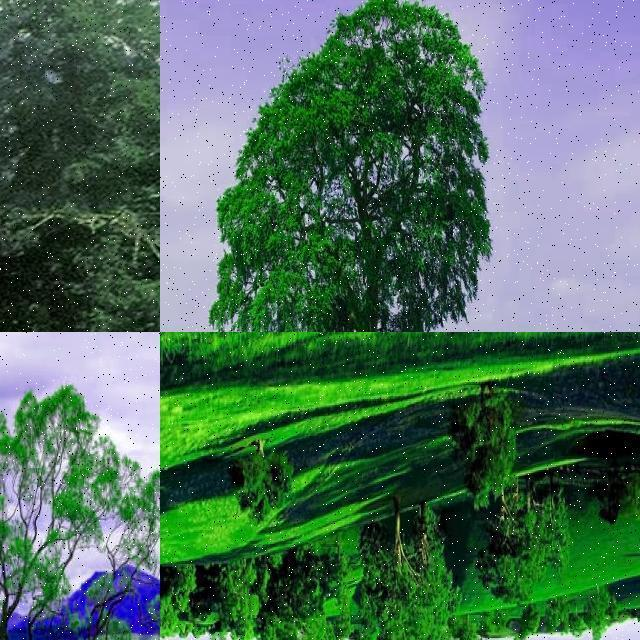tree: (212, 0, 492, 332), (0, 0, 160, 332), (0, 368, 160, 640), (362, 491, 422, 640), (450, 380, 518, 510), (398, 502, 462, 640), (254, 548, 332, 640), (476, 491, 536, 605), (235, 436, 293, 530), (530, 465, 570, 583), (217, 552, 260, 640), (592, 453, 624, 541), (160, 566, 200, 630), (586, 583, 614, 621), (565, 598, 583, 638), (516, 603, 540, 633), (457, 612, 477, 640), (348, 628, 372, 640), (475, 632, 487, 640)
